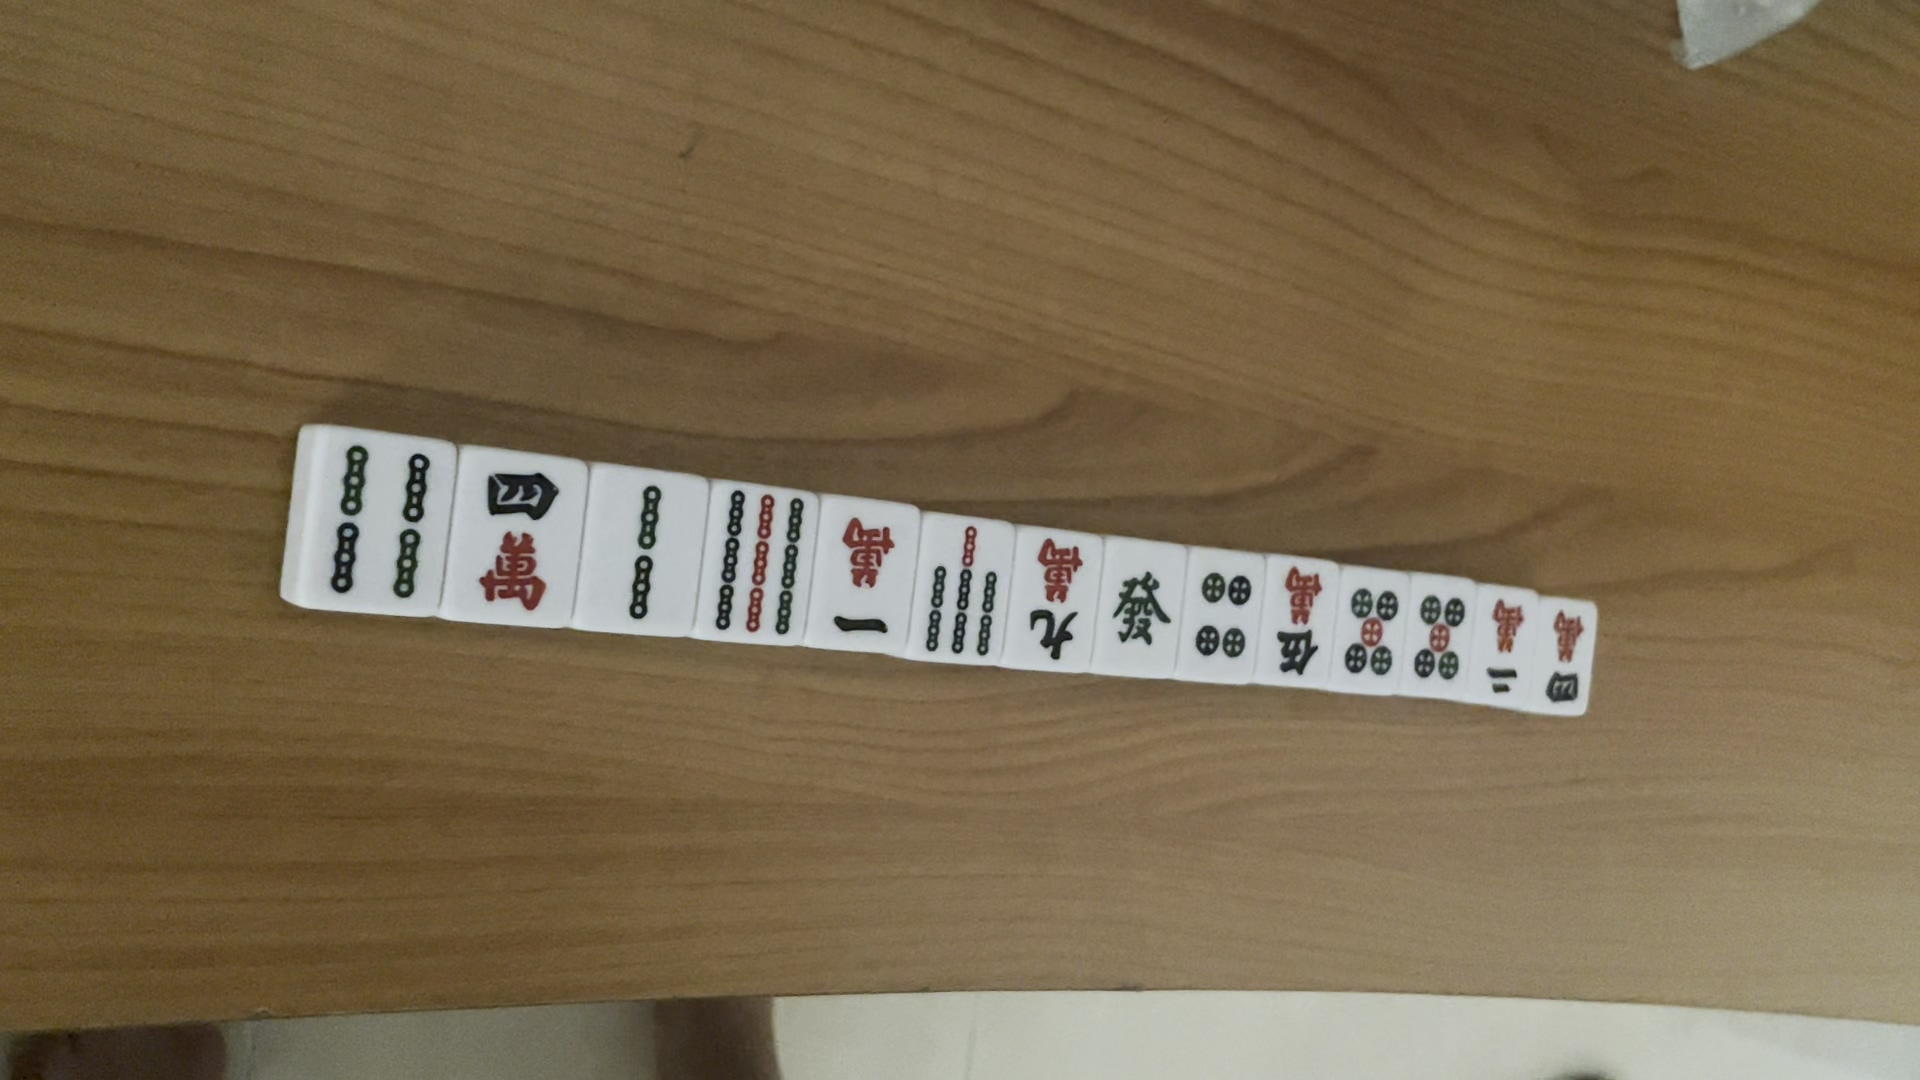b-2: (594, 476, 678, 625)
b-4: (322, 438, 436, 601)
b-7: (920, 520, 1003, 660)
b-9: (710, 486, 809, 637)
c-1: (831, 512, 893, 641)
c-2: (1478, 598, 1532, 698)
c-4: (471, 462, 568, 611), (1539, 605, 1591, 709)
c-5: (1271, 566, 1323, 676)
c-9: (1019, 537, 1087, 662)
d-4: (1190, 572, 1258, 663)
d-5: (1409, 592, 1467, 688), (1342, 582, 1399, 679)
honors-green: (1109, 573, 1174, 654)
